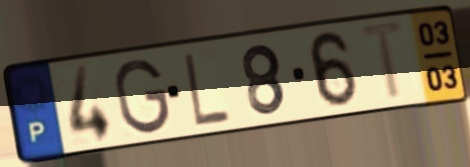4: (66, 61, 115, 146)
6: (306, 27, 362, 112)
8: (239, 41, 289, 118)
G: (111, 56, 173, 137)
L: (180, 49, 234, 128)
T: (357, 17, 412, 105)
